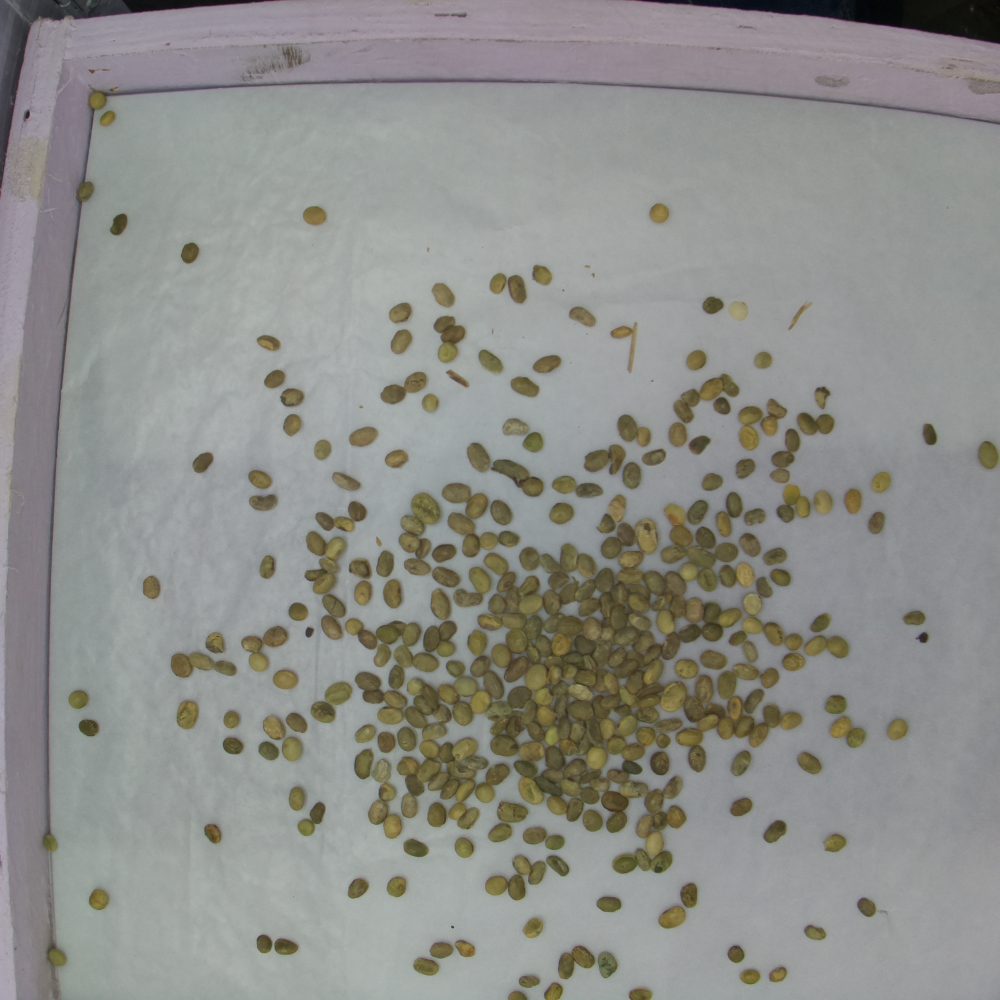green: (492, 458, 530, 485), (657, 680, 688, 713), (786, 297, 816, 331), (409, 492, 441, 523), (495, 798, 532, 824), (517, 775, 547, 804), (465, 441, 492, 473), (573, 943, 601, 973), (975, 439, 998, 475), (508, 375, 542, 399), (342, 876, 371, 904), (884, 716, 913, 743), (797, 748, 824, 777), (44, 946, 74, 972), (634, 519, 656, 554), (729, 747, 751, 782), (626, 322, 641, 373), (175, 698, 198, 731), (352, 746, 375, 779), (324, 680, 354, 705), (657, 906, 688, 930), (685, 546, 717, 569), (826, 634, 854, 660), (687, 498, 711, 528), (596, 949, 619, 980), (347, 426, 379, 448), (429, 281, 456, 307), (506, 654, 532, 681), (762, 818, 788, 845), (476, 348, 504, 373), (455, 586, 483, 611), (765, 392, 790, 420), (451, 737, 480, 761), (485, 823, 518, 844), (488, 734, 519, 756), (408, 956, 442, 976), (647, 202, 674, 227), (264, 623, 289, 650), (377, 384, 405, 408), (320, 593, 348, 617), (430, 586, 451, 618), (820, 831, 848, 855), (601, 790, 633, 811), (557, 543, 580, 572), (606, 493, 629, 522), (354, 670, 385, 691), (812, 488, 833, 519), (582, 448, 608, 473), (548, 500, 574, 525), (189, 648, 215, 673), (310, 698, 336, 723), (518, 738, 545, 762), (581, 809, 605, 836), (456, 805, 483, 829), (331, 471, 365, 490), (245, 492, 279, 511), (526, 664, 549, 692), (520, 824, 548, 847), (88, 886, 111, 914), (507, 273, 527, 305), (446, 512, 478, 532), (400, 837, 432, 857), (170, 651, 192, 680), (687, 745, 709, 774), (662, 772, 684, 801), (273, 936, 302, 958), (399, 513, 429, 534), (727, 299, 752, 324), (612, 853, 637, 878), (736, 424, 760, 450), (827, 715, 853, 739), (467, 566, 490, 593), (855, 894, 878, 921), (544, 853, 571, 876), (201, 820, 224, 847), (534, 776, 565, 796), (301, 204, 329, 226), (749, 721, 771, 749), (801, 922, 830, 943), (389, 329, 413, 354), (499, 415, 529, 435), (662, 502, 686, 527), (731, 714, 755, 739), (649, 750, 673, 775), (451, 833, 475, 858), (507, 873, 527, 903), (273, 667, 299, 690), (285, 711, 311, 734), (667, 525, 693, 548), (866, 509, 889, 535), (741, 688, 764, 714), (727, 795, 753, 818), (485, 761, 511, 784), (445, 761, 480, 778), (482, 672, 504, 699), (682, 694, 704, 721), (732, 662, 759, 684), (666, 803, 688, 830), (616, 780, 649, 798), (482, 875, 509, 897), (431, 566, 462, 585), (381, 448, 409, 469), (413, 652, 441, 673), (676, 726, 704, 747), (255, 333, 284, 353), (617, 413, 637, 442), (442, 483, 471, 503), (713, 510, 733, 539), (428, 939, 457, 959), (508, 685, 532, 709), (733, 456, 757, 480), (385, 876, 409, 900), (191, 451, 216, 474), (688, 431, 711, 456), (551, 472, 576, 495), (490, 499, 513, 524), (312, 571, 337, 594), (261, 714, 286, 737), (615, 523, 638, 548), (505, 629, 528, 654), (694, 525, 717, 550), (738, 532, 761, 557), (869, 469, 892, 494), (825, 693, 850, 716), (367, 800, 392, 823), (454, 936, 479, 959), (321, 616, 343, 642), (661, 542, 687, 564), (644, 787, 666, 813), (695, 673, 714, 703), (279, 387, 306, 408), (519, 547, 540, 574), (470, 690, 491, 717), (702, 649, 729, 670), (585, 720, 606, 747), (425, 801, 446, 828), (595, 566, 615, 594), (684, 597, 704, 625), (717, 671, 737, 699), (762, 619, 782, 647), (513, 759, 541, 779), (680, 880, 698, 911), (557, 951, 575, 982), (574, 578, 597, 602), (716, 541, 739, 565), (606, 810, 629, 834), (521, 916, 545, 939), (567, 305, 596, 324), (531, 354, 560, 373), (645, 830, 664, 859), (595, 894, 624, 913), (75, 179, 97, 204), (467, 493, 489, 518), (256, 740, 281, 762), (779, 710, 804, 732), (326, 534, 347, 560), (901, 608, 927, 629), (414, 758, 440, 779), (181, 239, 199, 269), (247, 469, 274, 489), (283, 735, 301, 765), (697, 567, 717, 594), (761, 546, 789, 565), (919, 421, 938, 449), (382, 813, 401, 841), (532, 266, 555, 289), (521, 477, 544, 500), (490, 643, 513, 666), (454, 778, 477, 801), (521, 431, 545, 453), (844, 727, 868, 749), (393, 756, 417, 778), (623, 462, 644, 487), (720, 372, 741, 397), (484, 552, 509, 573), (467, 630, 488, 655), (405, 705, 426, 730), (644, 570, 665, 595), (673, 658, 698, 679), (796, 411, 817, 436), (401, 558, 430, 576), (383, 578, 401, 607), (566, 796, 584, 825), (445, 368, 471, 388), (672, 398, 692, 424), (452, 677, 478, 697), (716, 564, 736, 590), (725, 695, 745, 721), (387, 303, 414, 322), (567, 700, 594, 719), (528, 858, 547, 885), (844, 486, 861, 516), (405, 371, 428, 393), (247, 651, 270, 673), (575, 553, 597, 576), (600, 535, 622, 558), (541, 590, 563, 613), (615, 716, 638, 738), (652, 849, 674, 872), (559, 776, 582, 798), (564, 758, 586, 781), (511, 853, 534, 875), (108, 211, 129, 235), (432, 543, 460, 561), (643, 660, 664, 684), (742, 592, 763, 616), (395, 532, 420, 552), (307, 530, 327, 555), (258, 554, 278, 579), (581, 615, 601, 640), (594, 641, 614, 666), (657, 609, 676, 635), (633, 847, 652, 873), (255, 932, 274, 958), (401, 792, 418, 821), (641, 448, 668, 466), (346, 559, 373, 577), (771, 449, 798, 467), (518, 972, 545, 990), (436, 341, 458, 363), (685, 349, 707, 371), (436, 682, 458, 704), (39, 831, 61, 853), (281, 413, 302, 436), (701, 378, 724, 399), (495, 571, 518, 592), (452, 702, 473, 725), (616, 625, 639, 646), (416, 740, 439, 761), (809, 612, 832, 633), (804, 635, 827, 656), (783, 652, 806, 673), (740, 640, 763, 661), (586, 747, 607, 770), (545, 794, 568, 815), (432, 313, 456, 333), (346, 498, 366, 522), (206, 630, 226, 654), (552, 633, 572, 657), (666, 571, 686, 595), (718, 606, 742, 626), (769, 567, 793, 587), (761, 704, 781, 728), (635, 813, 655, 837), (545, 746, 565, 770), (426, 771, 450, 791), (143, 574, 160, 602), (421, 723, 449, 740), (662, 632, 679, 660), (497, 528, 522, 547), (372, 643, 391, 668), (619, 550, 644, 569), (402, 622, 421, 647), (628, 612, 653, 631), (813, 384, 832, 409), (736, 562, 755, 587), (372, 757, 391, 782), (737, 405, 763, 423), (784, 427, 802, 453), (793, 495, 811, 521), (608, 445, 624, 474), (670, 592, 686, 621), (419, 393, 440, 415), (460, 534, 482, 555), (77, 717, 99, 738), (286, 601, 308, 622), (375, 731, 396, 753), (312, 438, 332, 461), (397, 729, 417, 752), (560, 582, 580, 605), (440, 776, 460, 799), (739, 967, 762, 987), (376, 549, 393, 576), (382, 690, 409, 707), (519, 594, 543, 613), (528, 615, 547, 639), (405, 774, 424, 798), (240, 634, 265, 652), (538, 553, 563, 571), (679, 624, 704, 642), (575, 482, 603, 498), (476, 612, 502, 629), (717, 716, 734, 742), (288, 786, 305, 812), (594, 513, 615, 534), (489, 713, 510, 734), (702, 472, 723, 493), (702, 295, 724, 315), (67, 689, 89, 709), (752, 350, 774, 370), (768, 966, 790, 986), (354, 723, 377, 742), (617, 658, 640, 677), (626, 670, 645, 693), (763, 414, 782, 437), (816, 414, 835, 437), (781, 482, 800, 505), (767, 468, 796, 483), (423, 624, 439, 651), (579, 598, 603, 616), (541, 766, 568, 782), (309, 800, 327, 824), (541, 982, 565, 1000), (313, 510, 334, 530), (392, 646, 412, 667), (519, 574, 540, 594), (546, 611, 567, 631), (616, 568, 644, 583), (655, 718, 683, 733), (215, 658, 237, 677), (618, 685, 637, 707), (679, 562, 698, 584), (775, 503, 794, 525), (475, 783, 497, 802), (669, 422, 685, 448), (355, 581, 371, 607), (520, 699, 536, 725), (726, 491, 742, 517), (578, 768, 604, 784), (543, 834, 569, 850), (262, 369, 285, 387), (547, 571, 570, 589), (559, 615, 582, 633), (701, 622, 724, 640), (622, 743, 645, 761), (378, 707, 402, 724), (502, 611, 526, 628), (568, 683, 592, 700), (610, 605, 627, 629), (405, 677, 425, 697), (760, 667, 780, 687), (478, 530, 499, 549), (377, 624, 398, 643), (534, 688, 555, 707), (628, 593, 649, 612), (742, 616, 763, 635), (726, 944, 747, 963), (488, 273, 506, 295), (359, 629, 377, 651), (221, 735, 243, 753), (535, 707, 557, 725), (573, 635, 595, 653), (437, 740, 455, 762), (745, 508, 767, 526), (627, 986, 655, 1000), (361, 690, 384, 707), (755, 575, 772, 598), (612, 583, 627, 609), (606, 767, 632, 782), (415, 537, 431, 561), (389, 665, 405, 689), (636, 707, 660, 723), (87, 90, 106, 110), (680, 388, 699, 408), (438, 621, 458, 640), (642, 644, 662, 663), (223, 708, 241, 729), (609, 646, 627, 667), (700, 713, 721, 731), (421, 686, 437, 709), (571, 719, 587, 742), (579, 787, 602, 803), (506, 584, 519, 612), (487, 702, 515, 715), (471, 655, 490, 674), (441, 328, 465, 343), (413, 697, 431, 717), (608, 736, 626, 756), (446, 659, 467, 676), (603, 672, 619, 694), (594, 695, 609, 718), (630, 583, 653, 598), (622, 759, 645, 774), (636, 633, 654, 652), (636, 728, 654, 747), (378, 782, 397, 800), (296, 819, 314, 838), (465, 755, 491, 768), (575, 670, 596, 686), (639, 684, 667, 696), (599, 718, 615, 739), (727, 629, 748, 645), (610, 325, 632, 340), (527, 722, 544, 741), (559, 739, 578, 756), (332, 518, 355, 532), (317, 557, 340, 571), (97, 110, 117, 126), (653, 593, 673, 609), (703, 602, 719, 622), (545, 725, 561, 745), (784, 633, 804, 649), (599, 593, 612, 617), (638, 694, 662, 707), (438, 640, 456, 657), (448, 802, 465, 820), (433, 705, 449, 724), (489, 593, 504, 613), (507, 717, 520, 740), (636, 426, 650, 447), (599, 694, 620, 708), (713, 399, 731, 415), (345, 616, 361, 634), (915, 630, 933, 646), (651, 811, 667, 829), (596, 669, 608, 692), (538, 635, 551, 656), (599, 626, 615, 643), (589, 777, 609, 790), (504, 990, 530, 1000), (707, 703, 725, 717), (549, 664, 560, 686), (556, 694, 567, 716), (615, 704, 633, 717), (305, 569, 328, 579), (542, 656, 567, 665), (561, 665, 576, 680), (578, 735, 589, 755), (559, 718, 570, 738), (584, 654, 596, 672), (390, 620, 405, 634), (562, 655, 583, 665), (656, 733, 670, 748), (550, 682, 566, 695), (230, 407, 235, 439), (527, 649, 539, 662), (599, 617, 613, 628), (527, 662, 528, 663)
